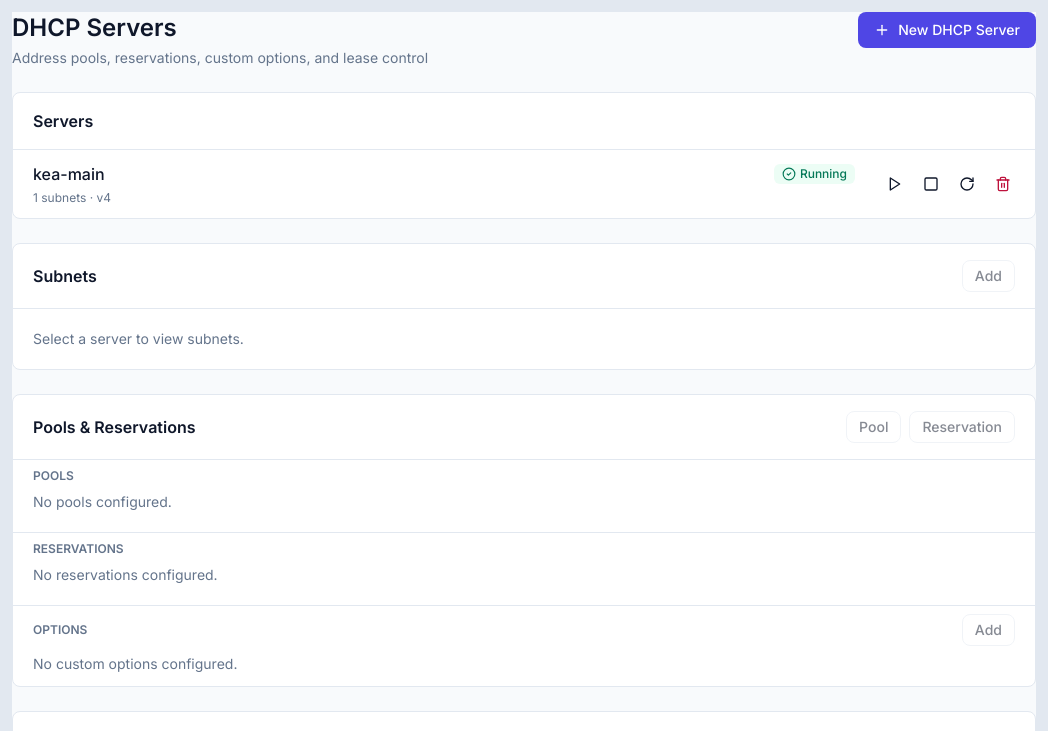
Test: DHCP Management page › selecting a subnet loads pools pane
Click the text "kea-main".
click(69, 174)  # box [33,162,105,186]
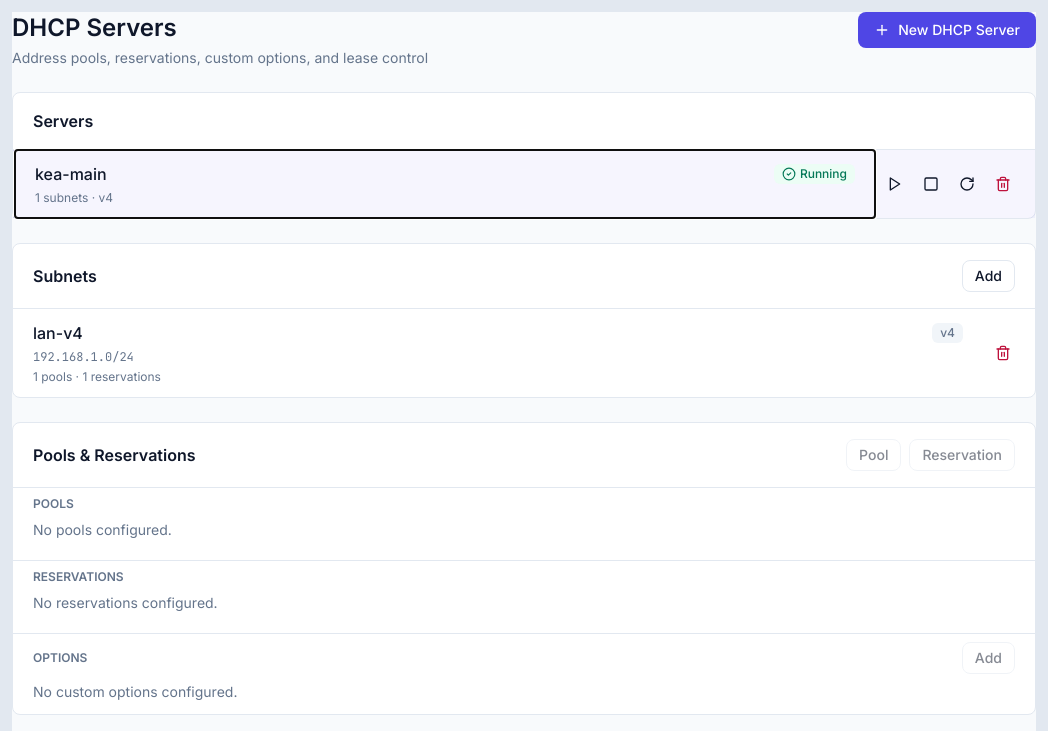
Check: the text "lan-v4" is shown
Click the text "lan-v4".
click(58, 333)  # box [33,321,83,345]
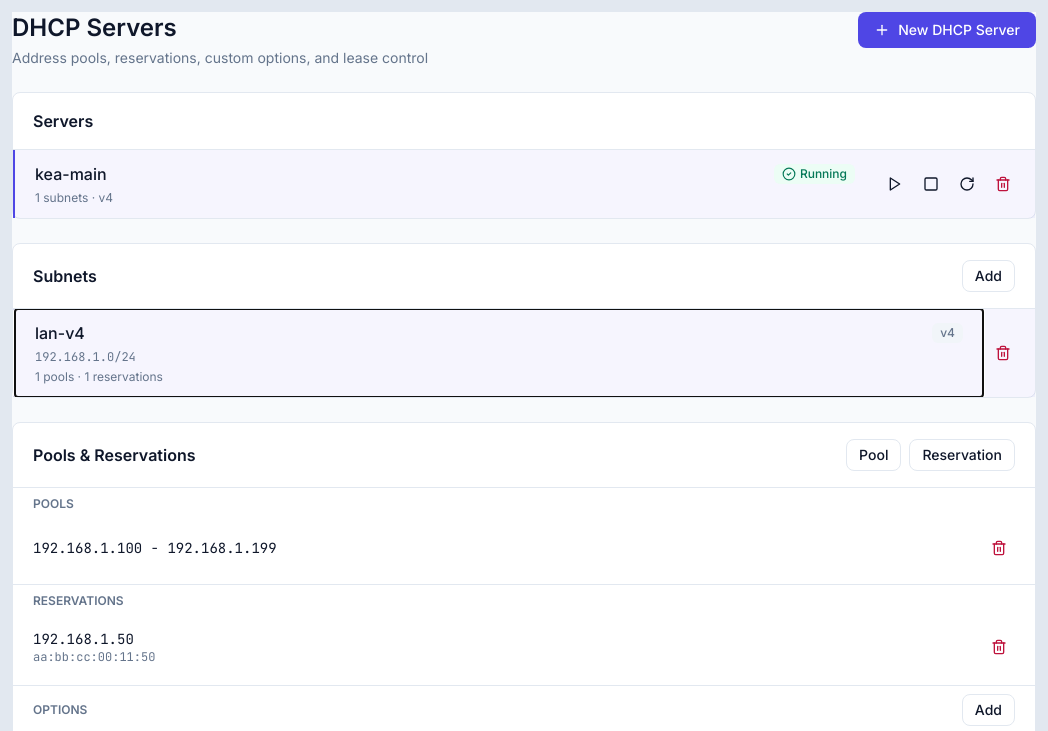
Check: the text "192.168.1.100 - 192.168.1.199" is shown, box [33,538,277,558]
